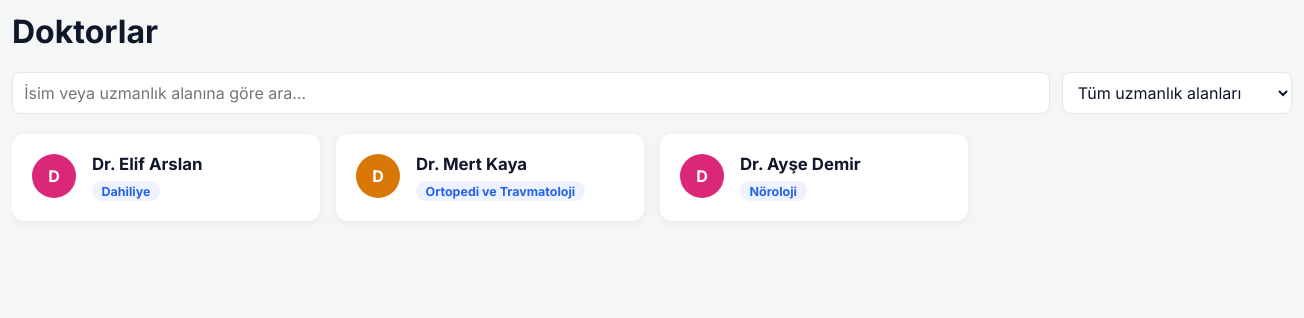
it: DoctorsListPage › shows a dedicated empty state when nothing matches the search
This screenshot has width=1304, height=318.
Expected: the heading "Dr. Elif Arslan" is shown, [92, 154, 202, 174]
Type "bulunmayan doktor" into the search field with placeholder "İsim veya uzmanlık alanına göre ara…" at x=531, y=93, box [12, 72, 1050, 114]
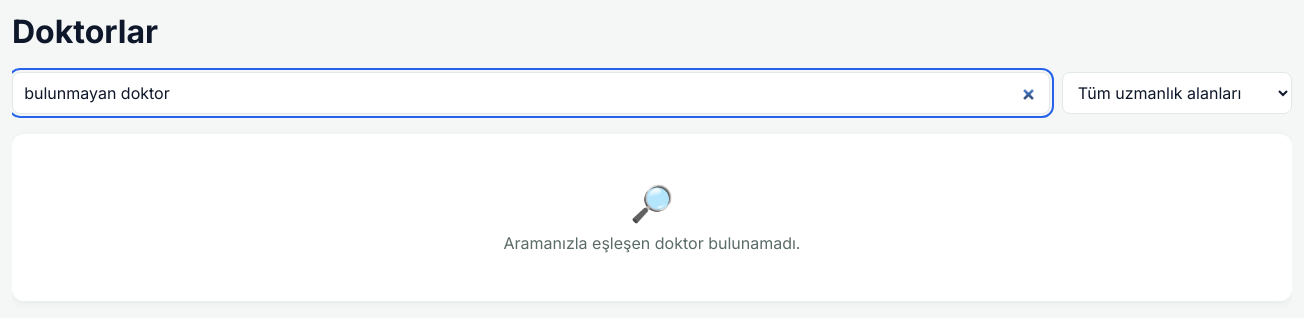
Now the text "Aramanızla eşleşen doktor bulunamadı." is shown, box [504, 233, 800, 253]
